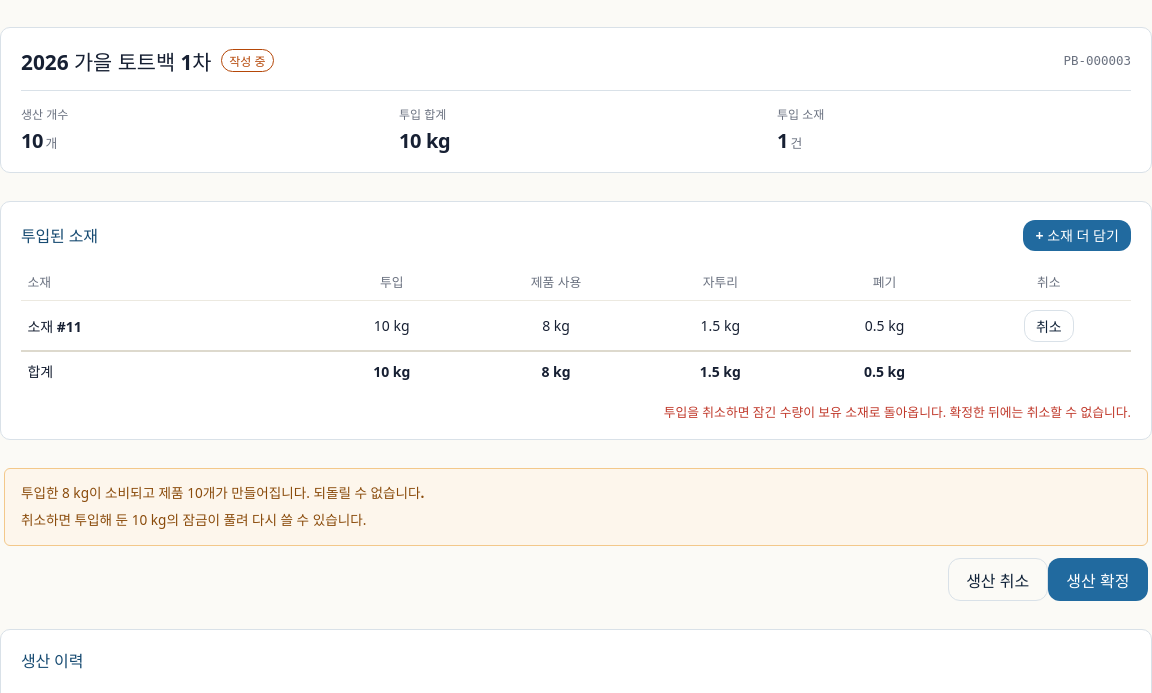
Scenario: ProductionBatchDetail › 확정이 실패하면 사유를 보여준다
The width and height of the screenshot is (1152, 693).
Step 1. Click the button "생산 확정" → click(1098, 580), box [1048,558,1148,601]
(page scrolled)
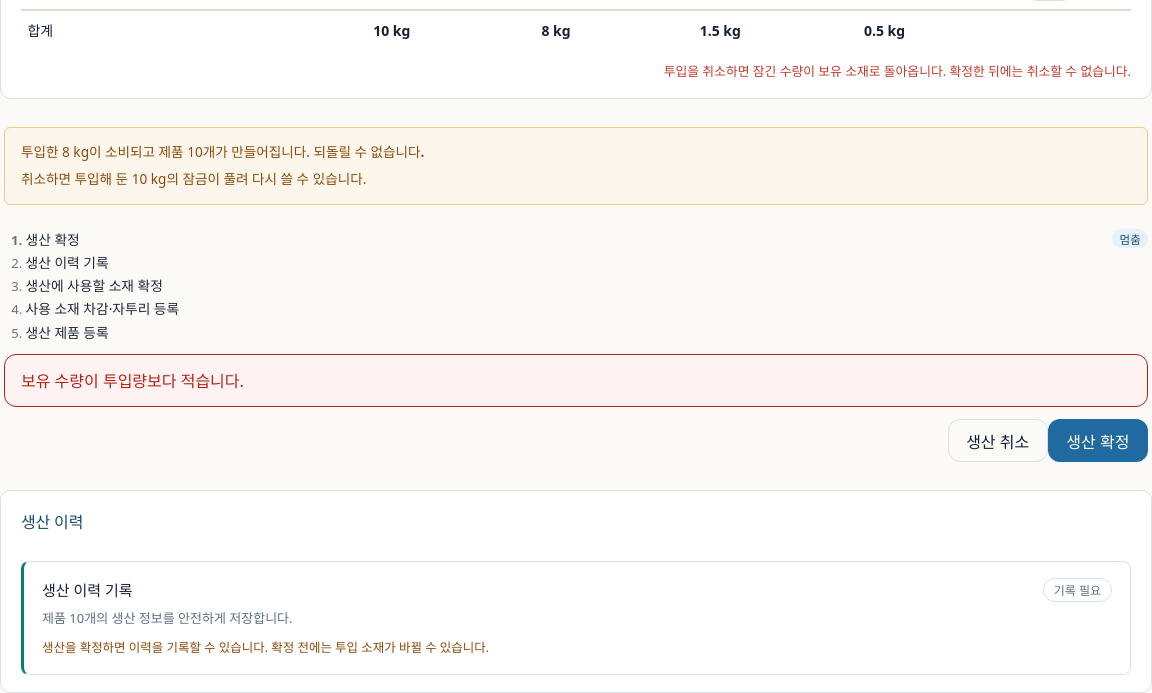
Expected: the message shows "보유 수량이 투입량보다 적습니다", [21,370,244,392]
